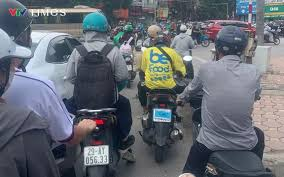Bien-so: (84, 146, 110, 166)
